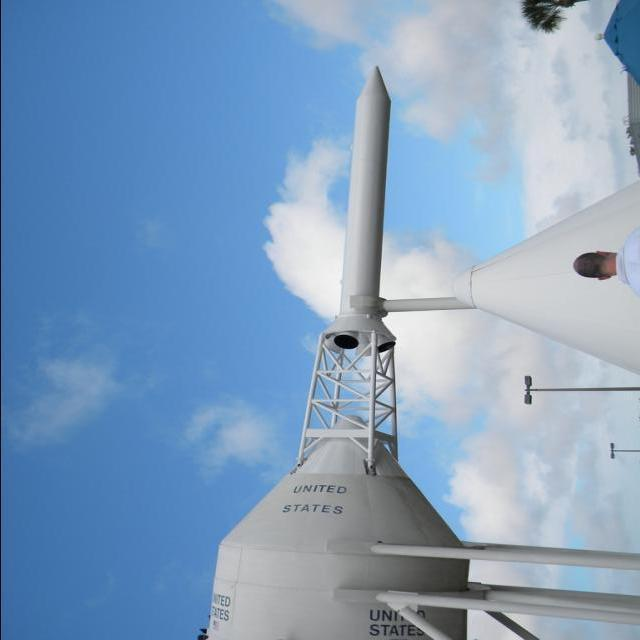missile: (315, 60, 406, 356)
